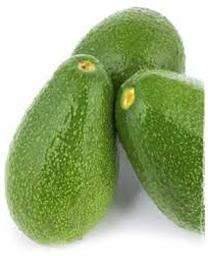avocado: (4, 53, 117, 247), (114, 67, 206, 240), (70, 6, 187, 138)
